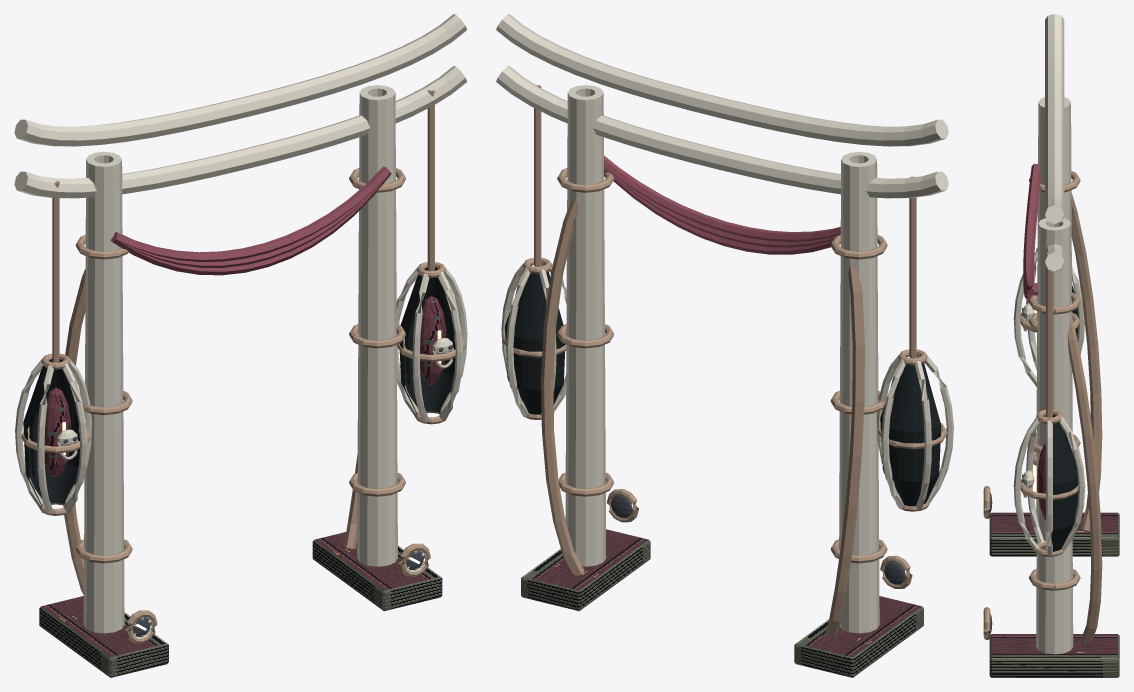
File: reliquary_bound_gate.glb
3 renders of one model, left to right at view 1: azimuth 30°, elevation 25°; view 2: azimuth 150°, elevation 25°; view 3: azimuth 270°, elevation 25°, orthographic. The views are drawn at different scales.
Parts seen in each view (by area): view 1: reliquary_bound_gate_warm, reliquary_bound_gate_petrol, reliquary_bound_gate_worn, reliquary_bound_gate_bruised; view 2: reliquary_bound_gate_warm, reliquary_bound_gate_petrol, reliquary_bound_gate_worn, reliquary_bound_gate_bruised, reliquary_bound_gate_deep; view 3: reliquary_bound_gate_warm, reliquary_bound_gate_worn, reliquary_bound_gate_petrol, reliquary_bound_gate_bruised.
Part boxes in pixels (bbox=[...]): reliquary_bound_gate_warm: bbox=[14, 14, 467, 638]; reliquary_bound_gate_petrol: bbox=[23, 267, 455, 677]; reliquary_bound_gate_worn: bbox=[21, 90, 466, 643]; reliquary_bound_gate_bruised: bbox=[44, 166, 446, 477]; reliquary_bound_gate_warm: bbox=[496, 14, 953, 633]; reliquary_bound_gate_petrol: bbox=[505, 264, 941, 677]; reliquary_bound_gate_worn: bbox=[503, 85, 947, 637]; reliquary_bound_gate_bruised: bbox=[604, 155, 840, 254]; reliquary_bound_gate_deep: bbox=[611, 495, 905, 584]; reliquary_bound_gate_warm: bbox=[984, 14, 1085, 654]; reliquary_bound_gate_worn: bbox=[983, 171, 1102, 643]; reliquary_bound_gate_petrol: bbox=[989, 285, 1119, 677]; reliquary_bound_gate_bruised: bbox=[1023, 163, 1045, 519].
Bounding box in the file's own units: 6.32 × 7.35 × 1.85.
6 materials, 2 textured.
